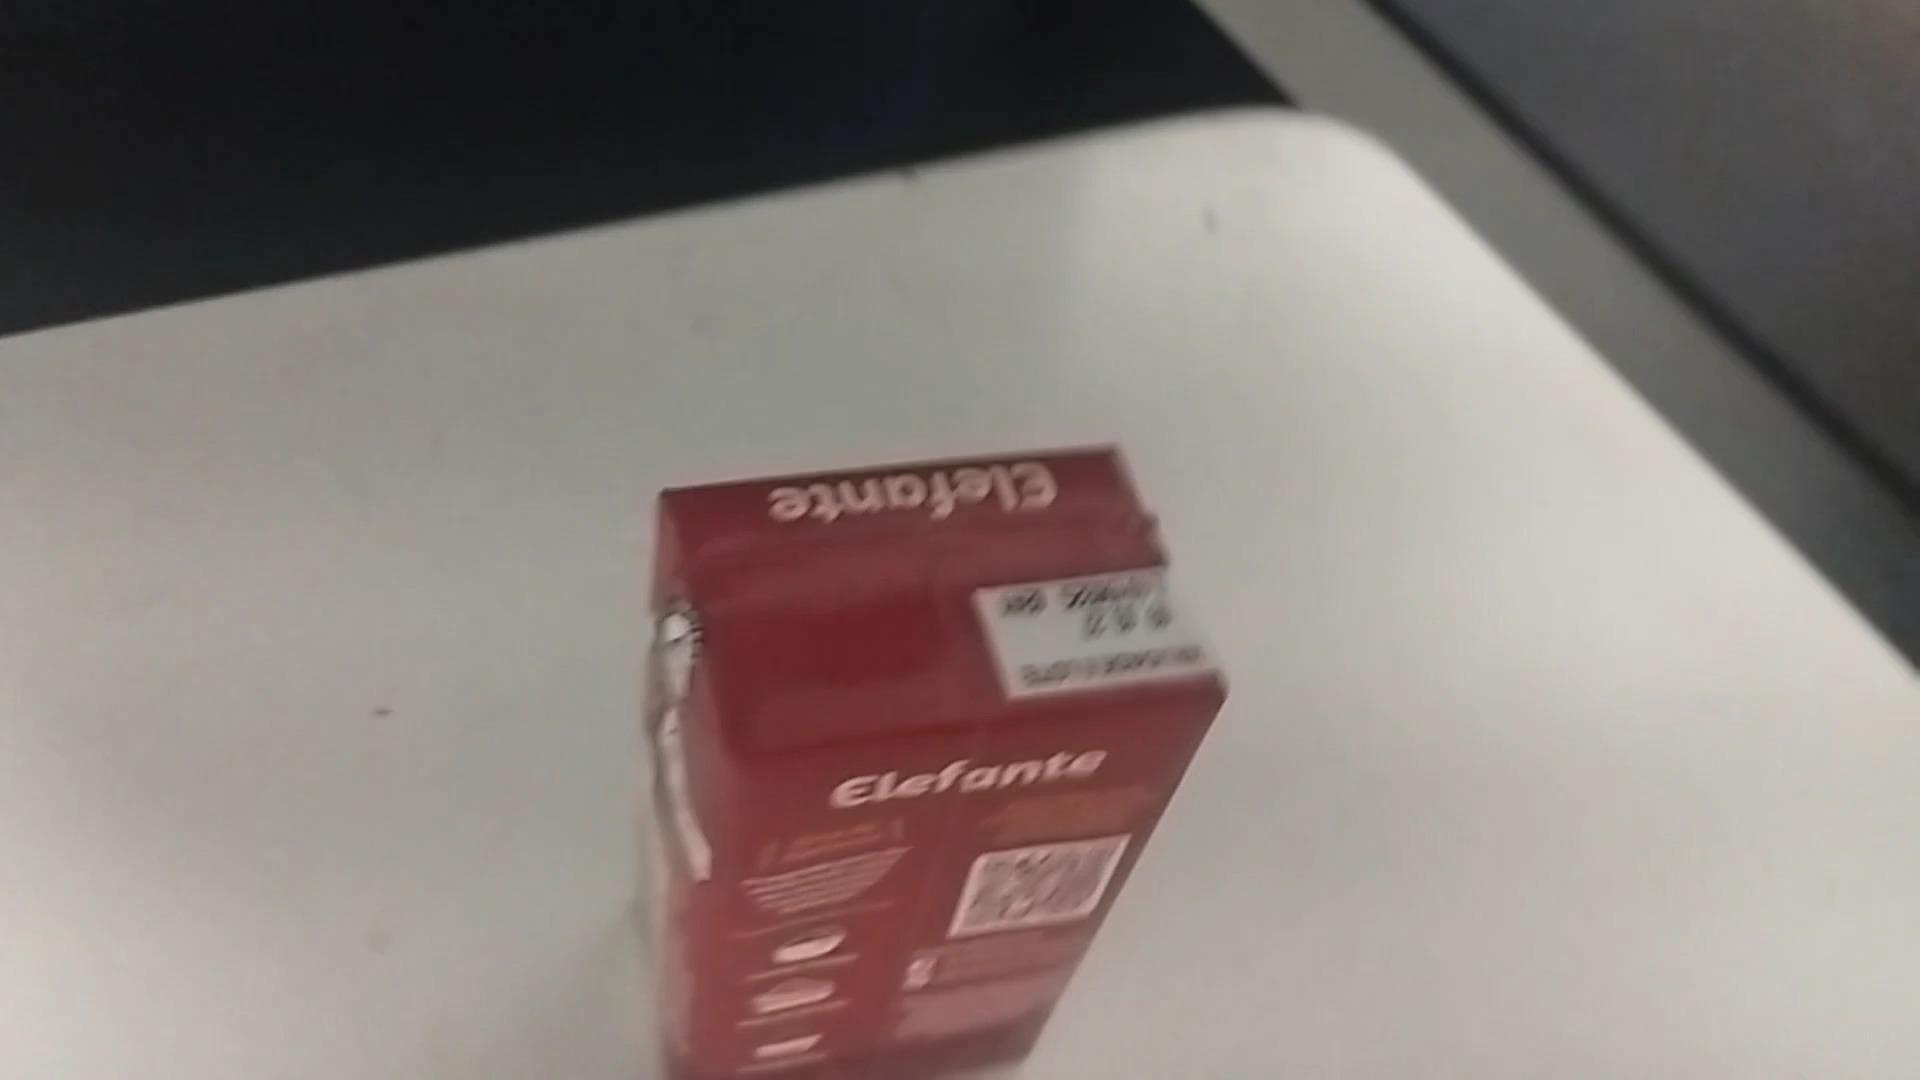tomate: (629, 436, 1236, 1080)
